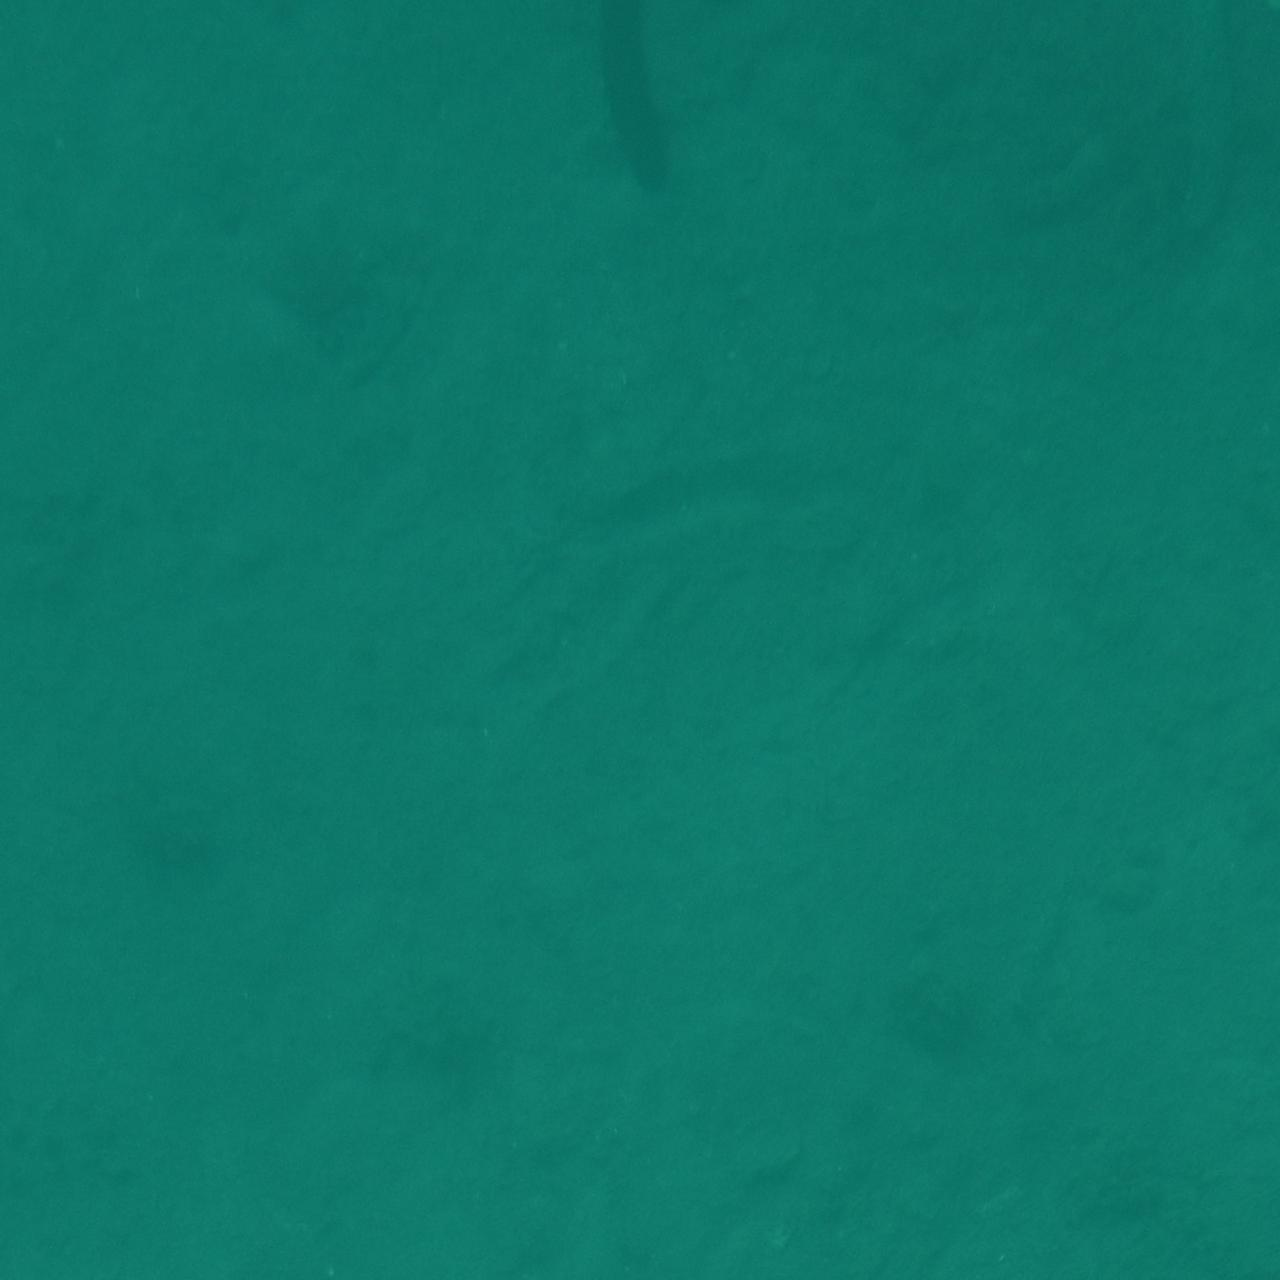Holothuria tubulosa: (560, 0, 720, 232)
